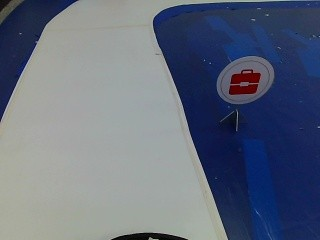company: (217, 58, 272, 104)
